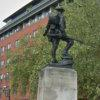Statue: (37, 5, 83, 66)
